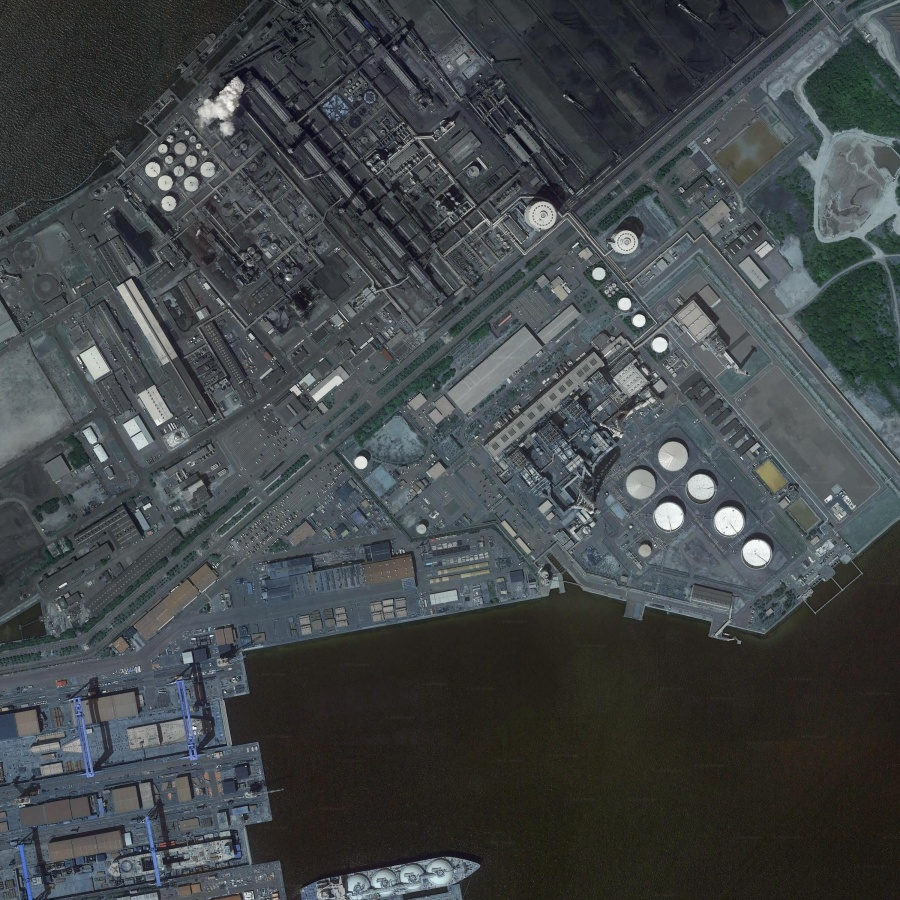PowerPlant: (494, 188, 794, 567)
